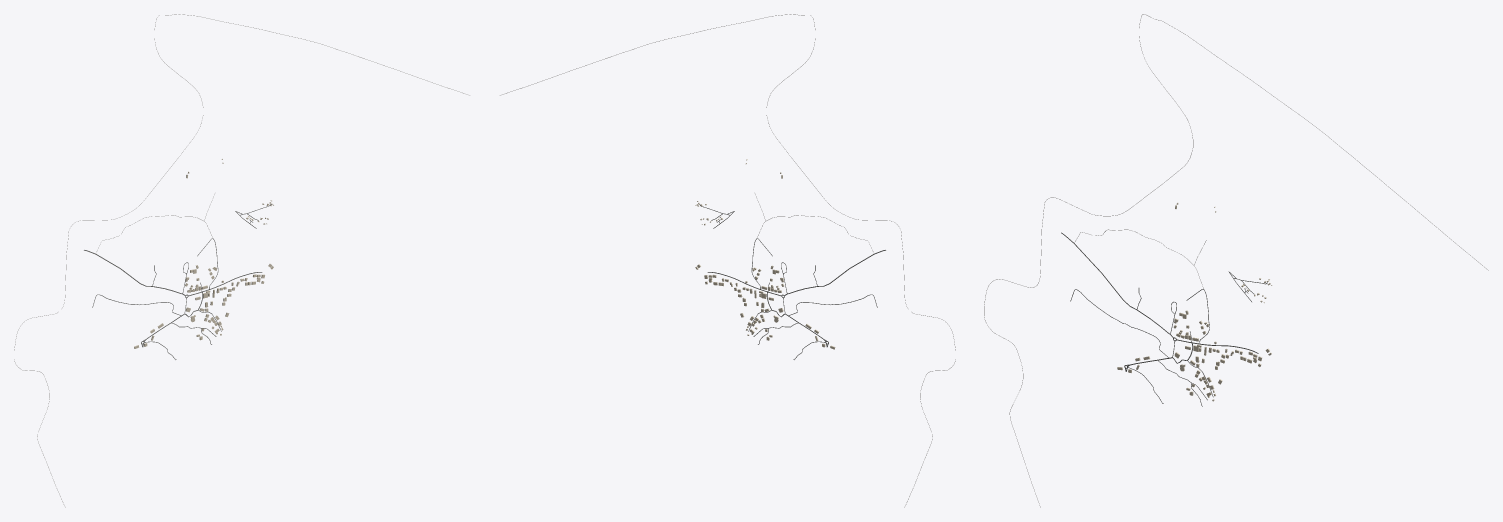
Rendered from historic-palestine-10_24_3518_3185.glb.
3 views of the same model, side by side, from view 1: azimuth 30°, elevation 25°; view 2: azimuth 150°, elevation 25°; view 3: azimuth 330°, elevation 25° (orthographic). The views are drawn at different scales.
Visible parts, largest first — view 1: Road כביש שירות - גדר הפרדה; view 2: Road כביש שירות - גדר הפרדה; view 3: Road כביש שירות - גדר הפרדה.
Part boxes in pixels (bbox=[...]): Road כביש שירות - גדר הפרדה: bbox=[14, 14, 469, 507]; Road כביש שירות - גדר הפרדה: bbox=[500, 14, 955, 507]; Road כביש שירות - גדר הפרדה: bbox=[984, 14, 1488, 507].
Bounding box in the file's own units: 3019 × 2967 × 8.7.
